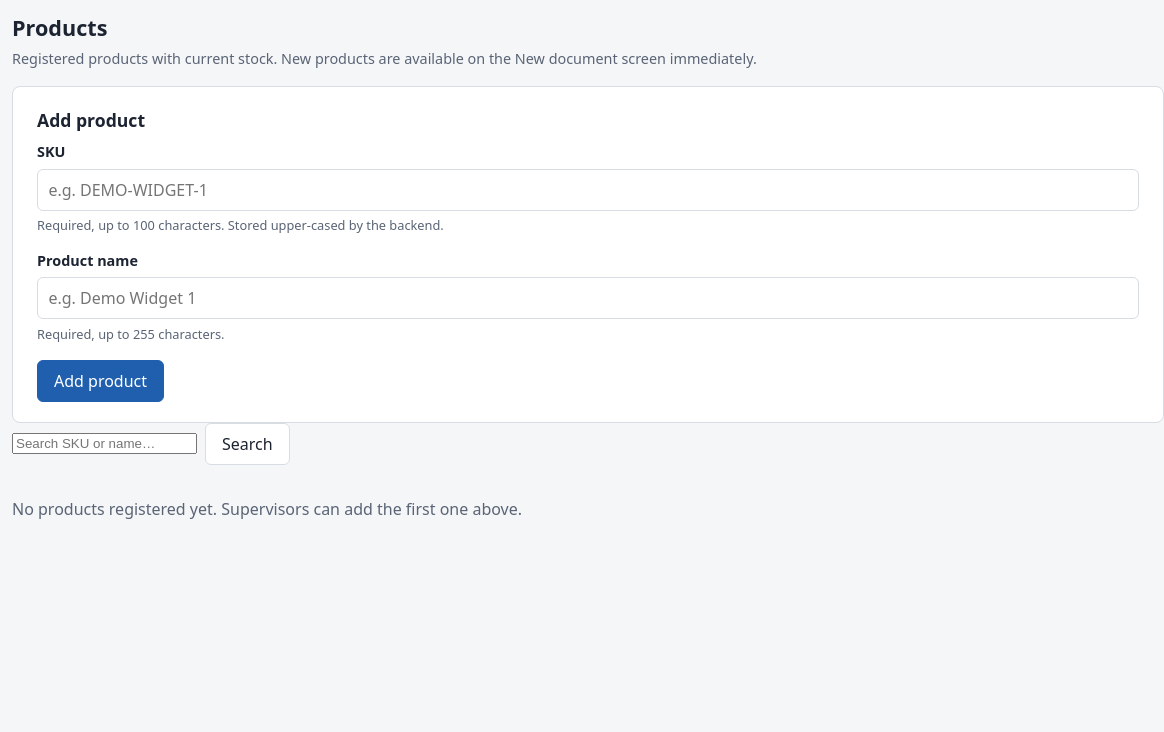
business screens › surfaces server errors when product creation fails
Expected: the button "Add product" is shown, [37,360,164,402]
Type "WIDGET-1" into the field labelled "SKU" at (588,190), box [37,169,1139,211]
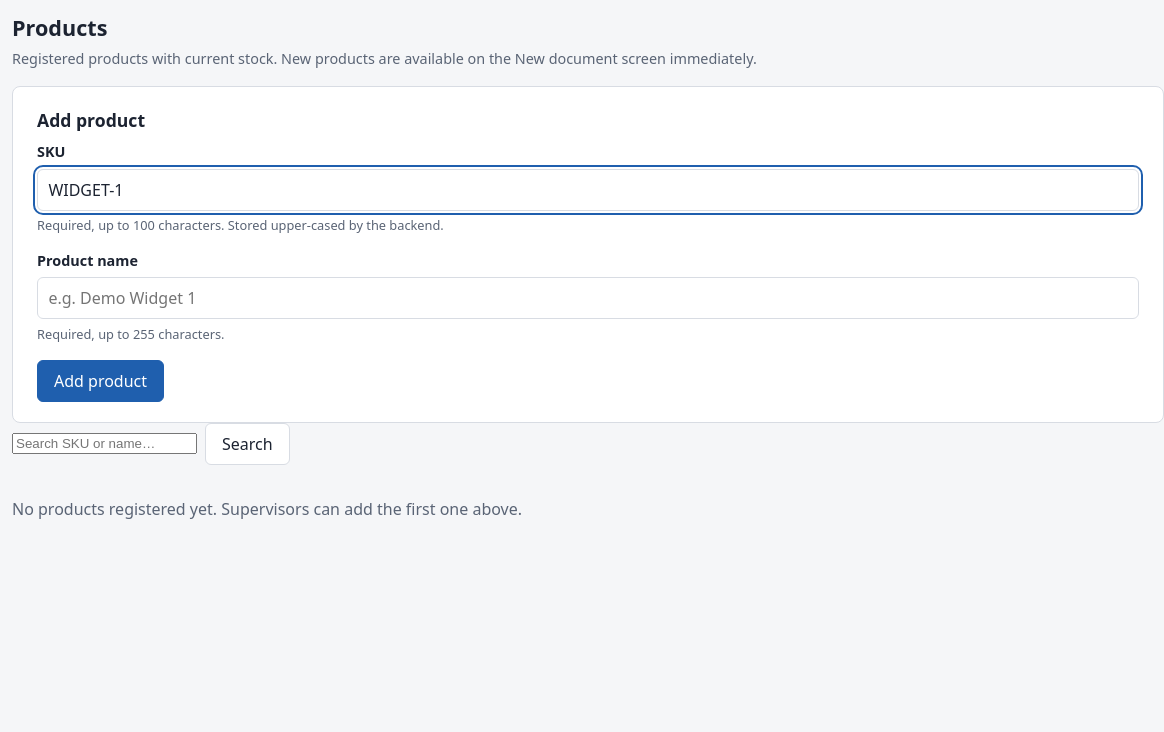
Type "Widget One" into the field labelled "Product name" at (588,298), box [37,277,1139,319]
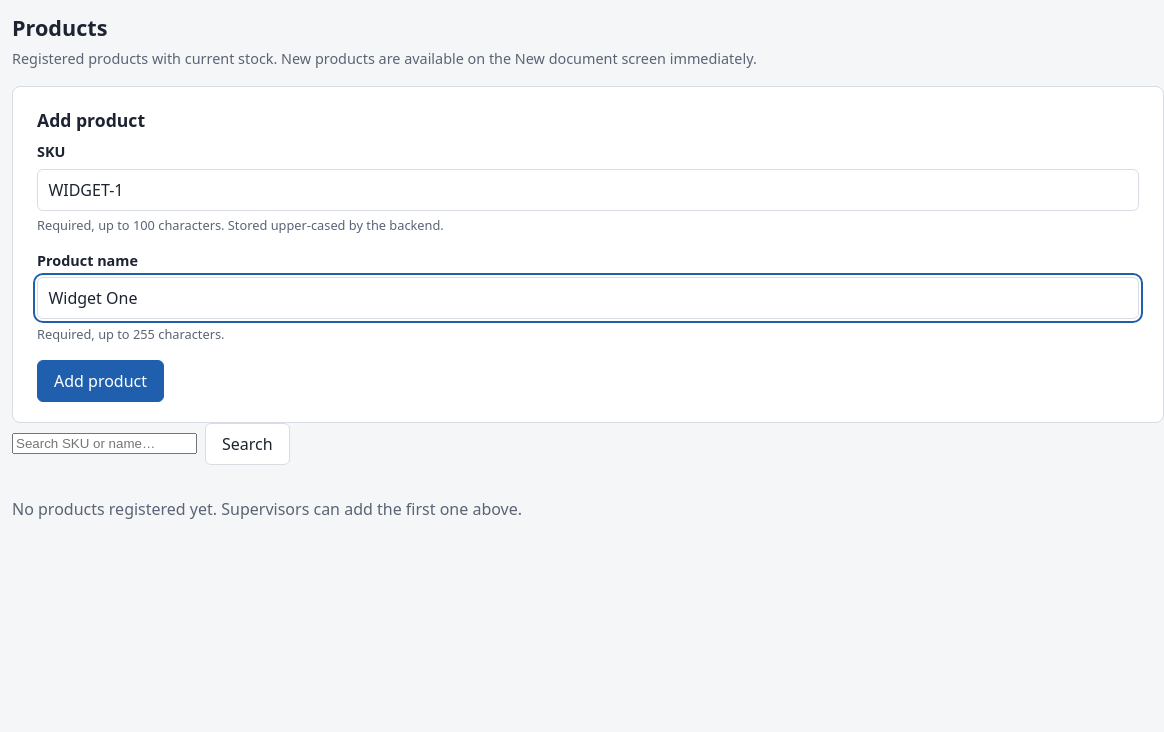
Click the button "Add product" at (101,381), box [37,360,164,402]
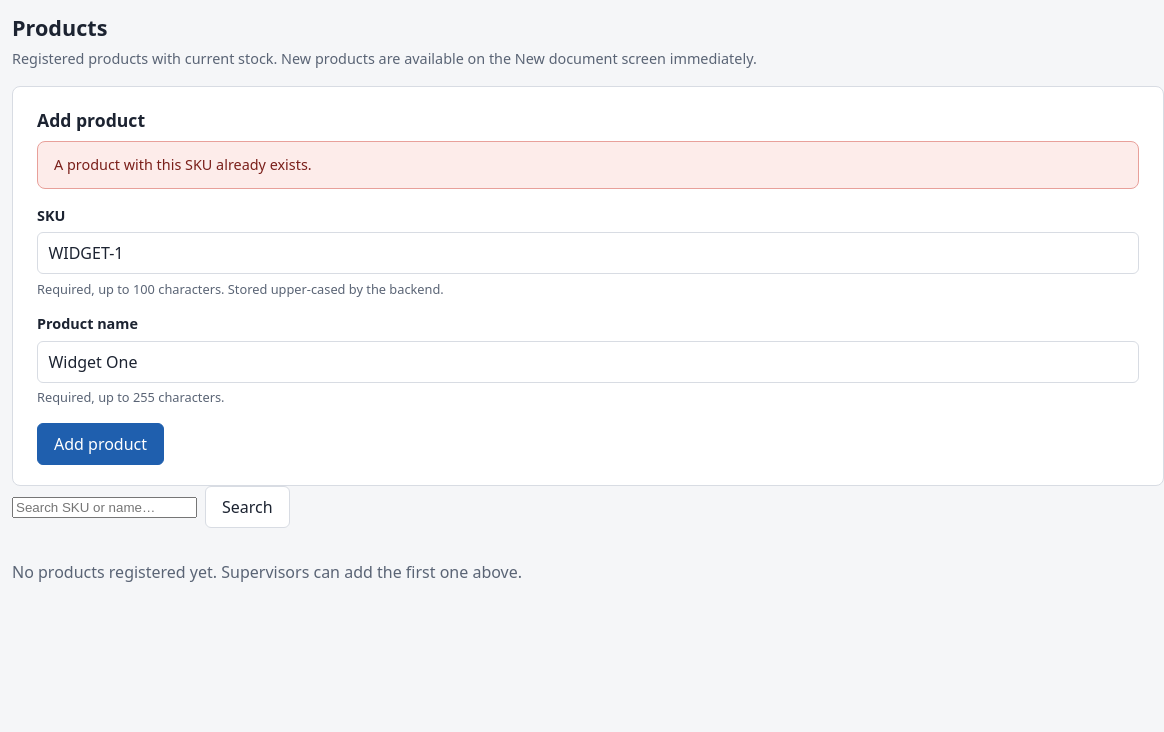
Result: the message reads "A product with this SKU already exists." at [54,155,312,174]
